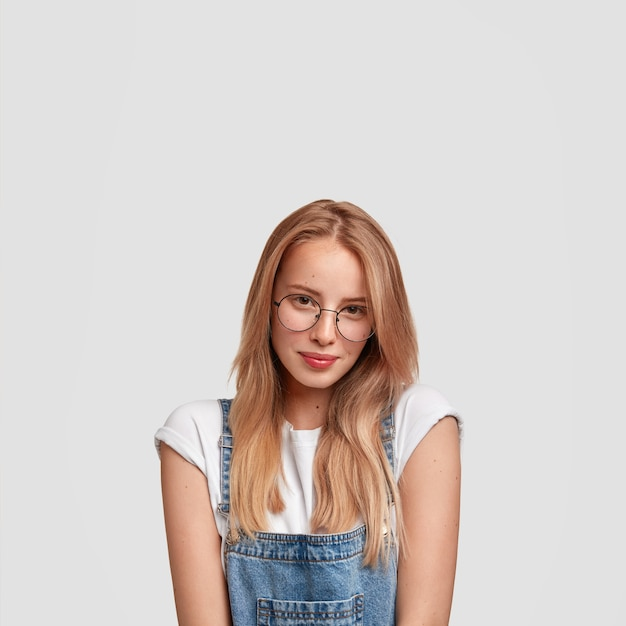teen: (212, 187, 418, 418)
